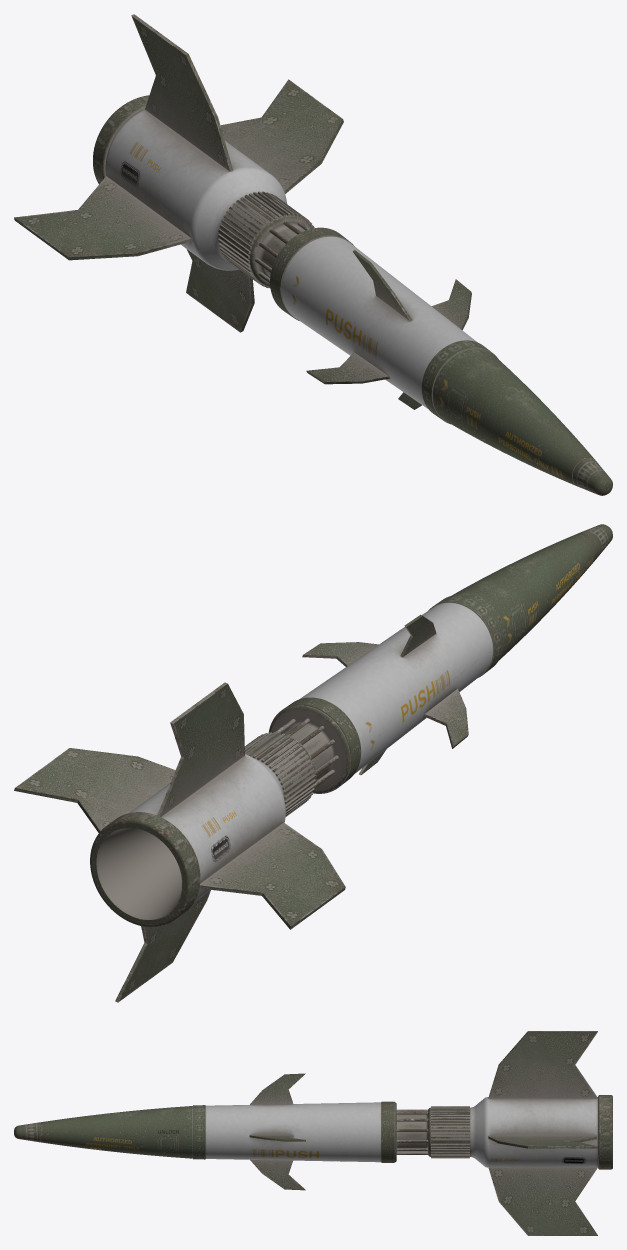
The model's file is simple_rocket.glb.
The picture shows the model from 3 angles, top to bottom: view 1: azimuth 30°, elevation 25°; view 2: azimuth 150°, elevation 25°; view 3: azimuth 270°, elevation 25°; orthographic projection. The views are drawn at different scales.
Parts seen in each view (by area): view 1: Object_2; view 2: Object_2; view 3: Object_2.
Boxes of the visible parts, box(x1,y1,x2,y2) form: Object_2: box(14, 14, 612, 495); Object_2: box(14, 524, 612, 1002); Object_2: box(14, 1031, 612, 1235).
Bounding box in the file's own units: 289 × 292 × 845.
1 material, 1 textured.
